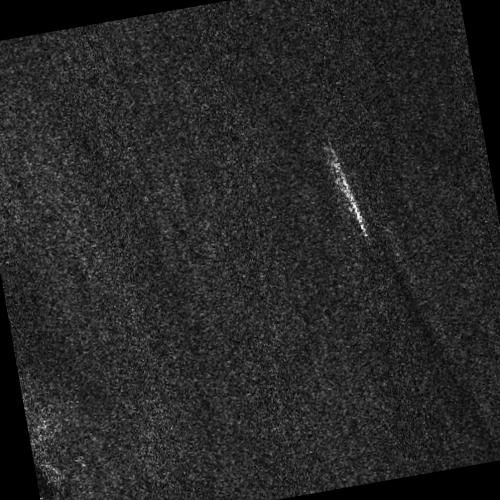ship: (335, 161, 368, 236)
